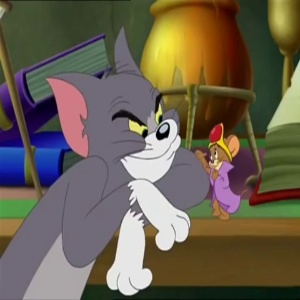Jerry: (200, 129, 238, 171)
Tom: (52, 31, 186, 175)
